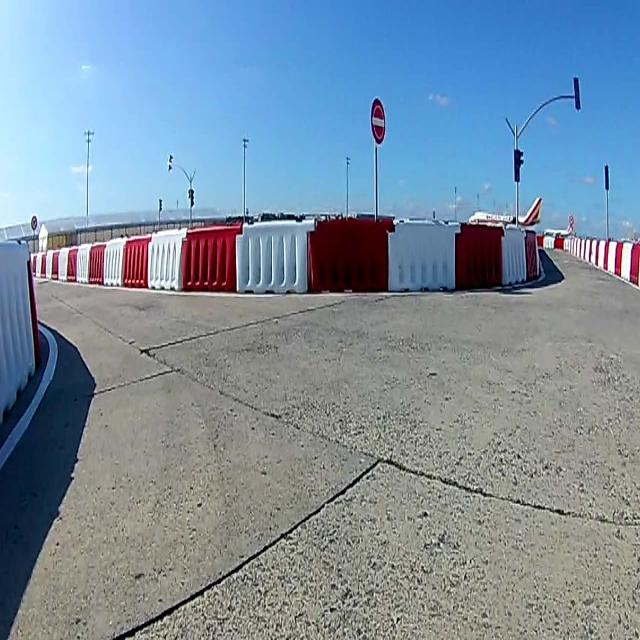girisyok: (369, 98, 386, 141)
